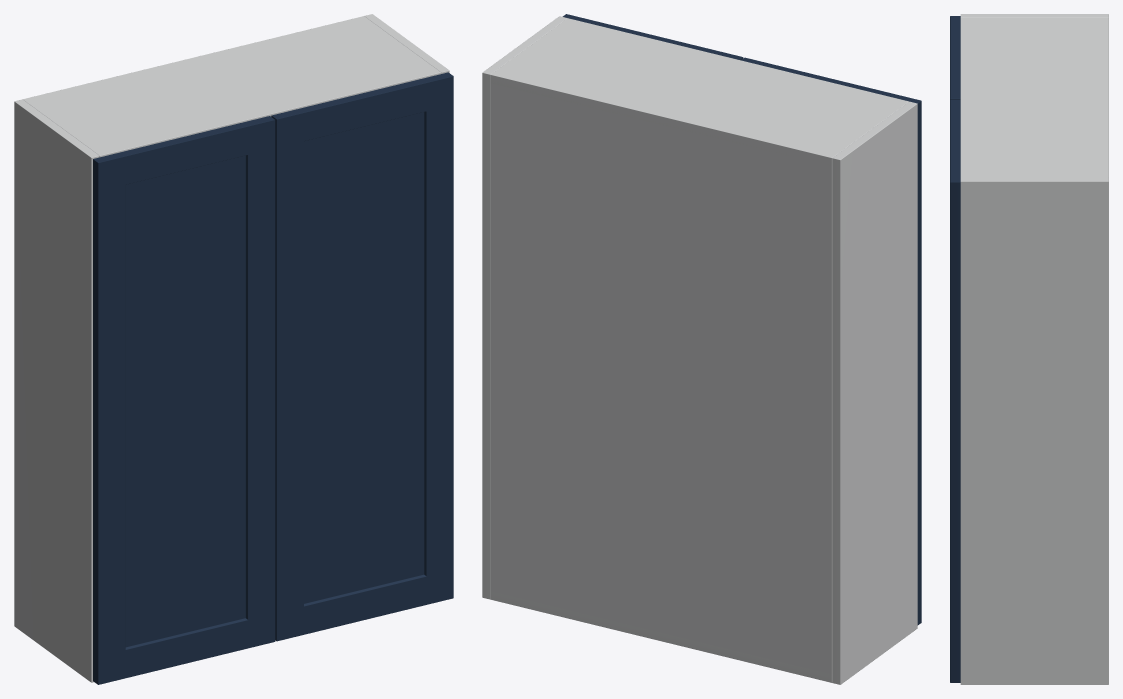
File: oppein-pb-bss-w3042.glb
3 renders of one model, left to right at view 1: azimuth 30°, elevation 25°; view 2: azimuth 150°, elevation 25°; view 3: azimuth 270°, elevation 25°, orthographic. The views are drawn at different scales.
Parts seen in each view (by area): view 1: Door, Door.001, Cabinet side, Cabinet top, Cabinet side.001; view 2: Cabinet back, Cabinet side, Cabinet top, Cabinet side.001, Door, Cabinet bottom, Door.001; view 3: Cabinet side.001, Cabinet top, Door.001, Door, Cabinet side.
Boxes of the visible parts, box(x1,y1,x2,y2) form: Door: box(93, 116, 275, 684); Door.001: box(271, 72, 453, 641); Cabinet side: box(14, 99, 99, 682); Cabinet top: box(23, 16, 441, 157); Cabinet side.001: box(364, 14, 449, 73); Cabinet back: box(490, 75, 832, 681); Cabinet side: box(832, 101, 917, 684); Cabinet top: box(490, 18, 908, 165); Cabinet side.001: box(482, 16, 567, 599); Door: box(741, 57, 921, 625); Cabinet bottom: box(490, 591, 832, 682); Door.001: box(562, 14, 743, 60); Cabinet side.001: box(960, 177, 1108, 684); Cabinet top: box(960, 18, 1108, 177); Door.001: box(950, 99, 960, 682); Door: box(950, 16, 960, 99); Cabinet side: box(960, 14, 1108, 17).
Bounding box in the file's own units: 0.762 × 1.07 × 0.3048.
